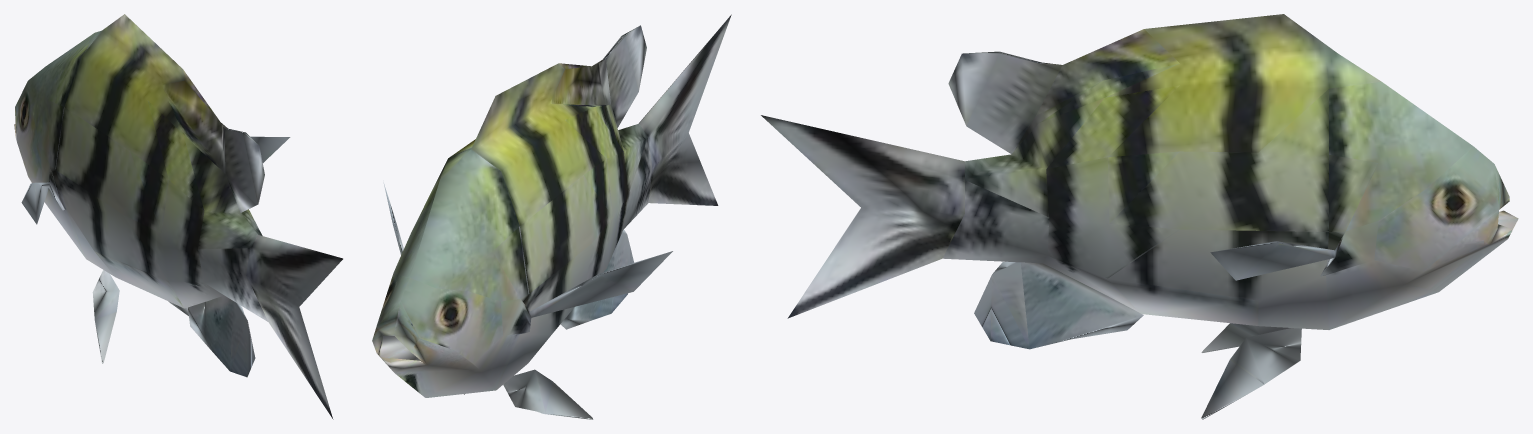
Rendered from sergeant-ver.glb.
3 views of the same model, side by side, from view 1: azimuth 30°, elevation 25°; view 2: azimuth 150°, elevation 25°; view 3: azimuth 270°, elevation 25° (orthographic). The views are drawn at different scales.
Visible parts, largest first — view 1: tripo_node_7df138db-bdad-4a00-9b58-2d522f92c8d0; view 2: tripo_node_7df138db-bdad-4a00-9b58-2d522f92c8d0; view 3: tripo_node_7df138db-bdad-4a00-9b58-2d522f92c8d0.
Part boxes in pixels (box(x1,y1,x2,y2)): tripo_node_7df138db-bdad-4a00-9b58-2d522f92c8d0: box(14, 14, 342, 419); tripo_node_7df138db-bdad-4a00-9b58-2d522f92c8d0: box(372, 14, 731, 419); tripo_node_7df138db-bdad-4a00-9b58-2d522f92c8d0: box(761, 14, 1518, 419).
Bounding box in the file's own units: 0.1265 × 0.1398 × 0.258.
1 material, 1 textured.
